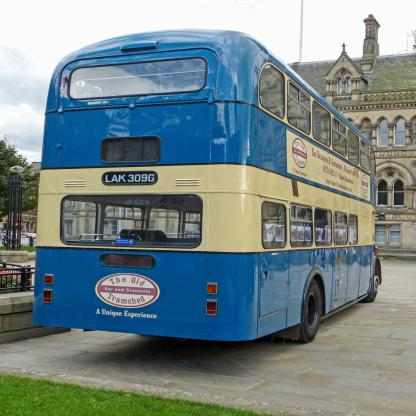Bus: (32, 27, 382, 344)
